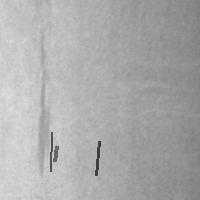inclusion: (31, 23, 58, 184), (94, 139, 101, 177), (48, 130, 53, 173), (52, 144, 58, 163)
